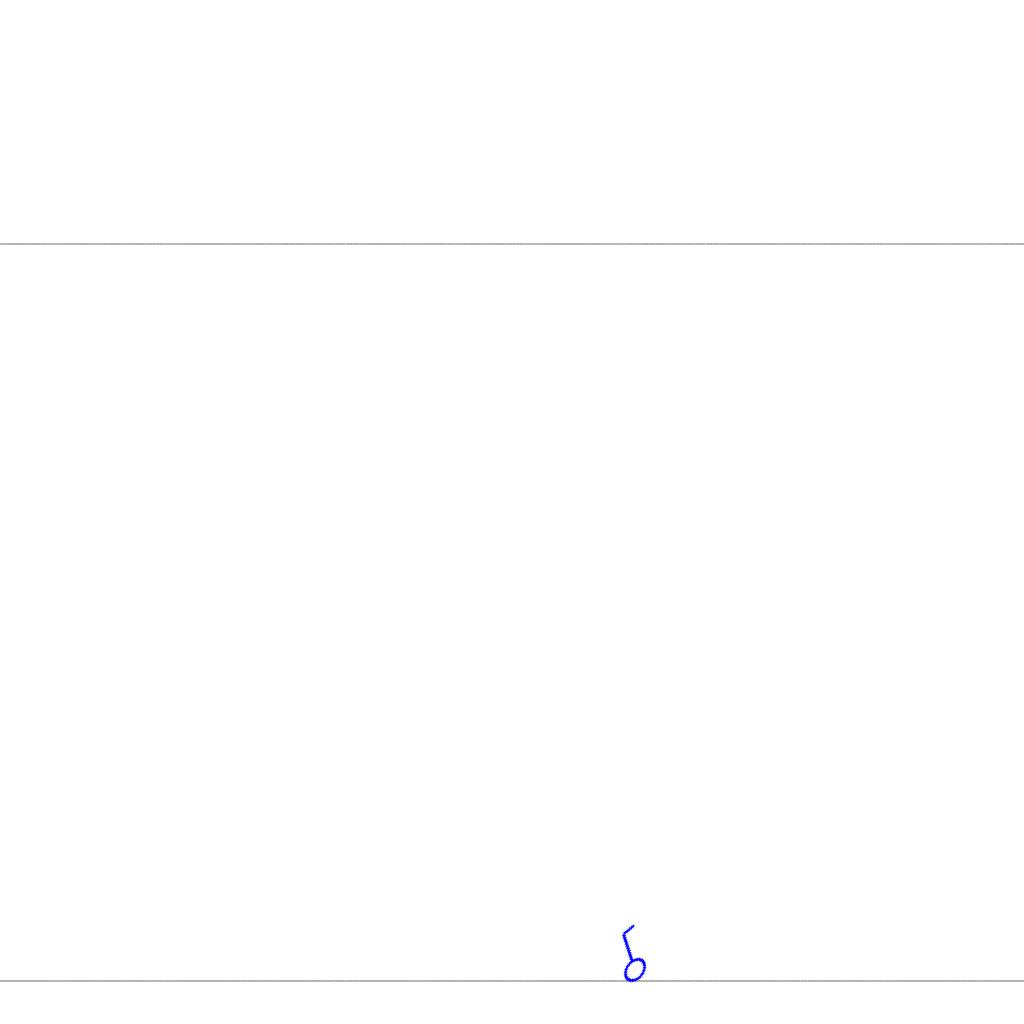Ausschalter: (593, 918, 667, 992)
